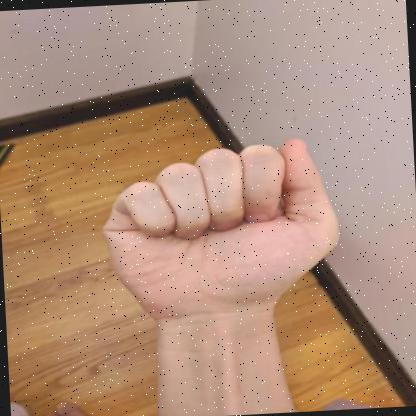A: (102, 138, 339, 325)
